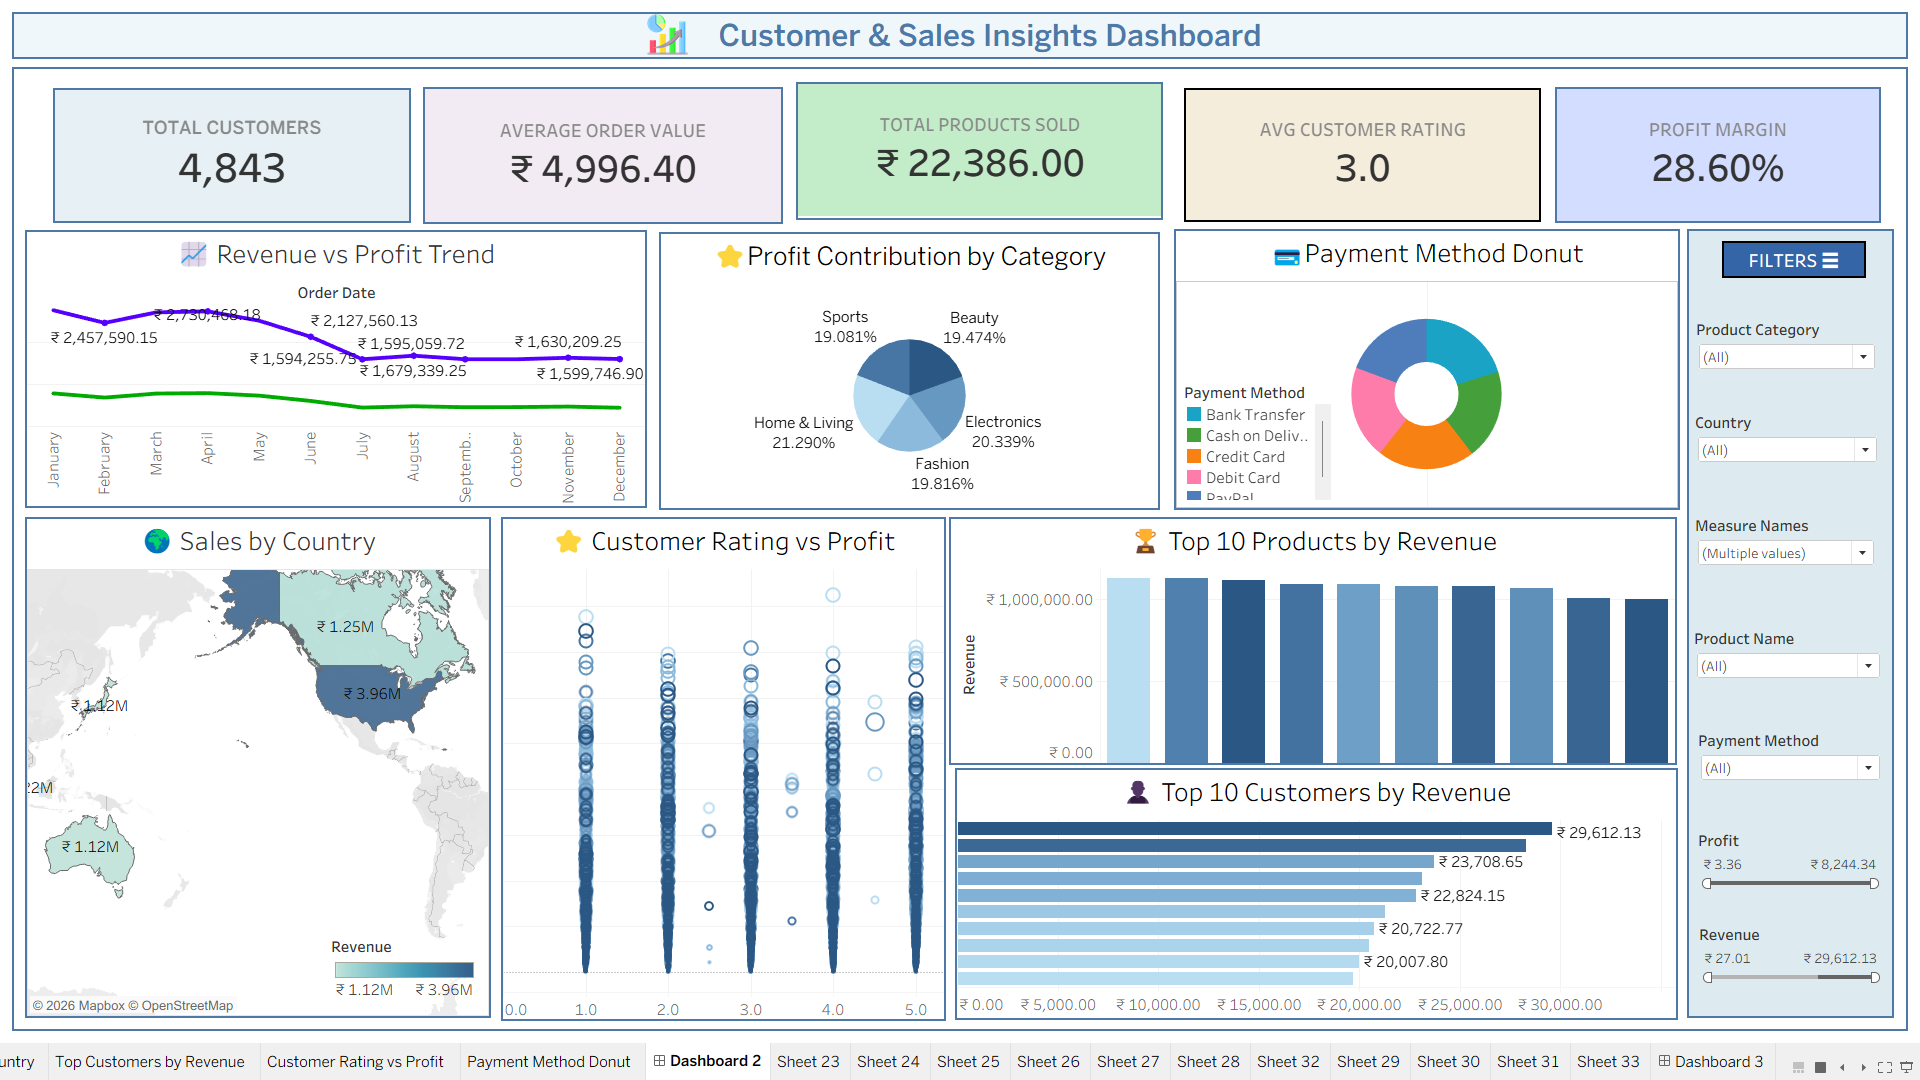

This screenshot's page, from the dashboard's own definition file:
{"tool":"tableau","page":{"name":"Dashboard 2","canvas":[1000,1000],"units":"permille","ordinal":1},"visuals":[{"type":"title","box":[4.8,9.4,990.3,64.6]},{"type":"image","param":"Image/sales-report.png","box":[324.7,14.1,30.8,41.1]},{"type":"blank","box":[4.8,74,990.3,916.6]},{"type":"worksheet","title":"KPI - Total Products Sold","mark":"Automatic","box":[414.6,78.7,191.3,132.8]},{"type":"worksheet","title":"KPI 5 -Average Order Value","mark":"Automatic","box":[220.3,83.4,187.7,131.6]},{"type":"worksheet","title":"KPI 6 -Profit Margin","mark":"Automatic","box":[809.9,83.4,169.6,130.4]},{"type":"worksheet","title":"KPI - Total Customers","mark":"Automatic","box":[27.8,84.6,186.5,129.3]},{"type":"worksheet","title":"KPI - Avg Rating","mark":"Automatic","box":[616.8,84.6,185.9,128.1]},{"type":"worksheet","title":"Payment Method Donut","mark":"Pie","cols":["Calculation_1093494572142600","Calculation_1093494572191754"],"box":[611.4,219.7,263.7,269.1]},{"type":"worksheet","title":"Revenue vs Profit Trend","mark":"Line","rows":["Revenue","Profit"],"cols":["Order_Date"],"box":[13.3,220.9,324.1,266.8]},{"type":"worksheet","title":"Profit by Category (Pie Chart)","mark":"Pie","box":[343.4,222.1,260.7,266.8]},{"type":"text","box":[896.8,231.5,74.8,35.2]},{"type":"filter","title":"Profit by Category (Pie Chart)","param":"[federated.0mwebx31yv44sr15h69f60pn67w9].[none:Product_Category:nk]","box":[883.5,305.5,94.8,69.3]},{"type":"legend","title":"Payment Method Donut","param":"[federated.0mwebx31yv44sr15h69f60pn67w9].[none:Payment_Method:nk]","box":[616.8,366.6,77.9,112.8]},{"type":"filter","title":"Sales by Country","param":"[federated.0mwebx31yv44sr15h69f60pn67w9].[none:Country:nk]","box":[882.9,394.8,96.6,82.3]},{"type":"filter","title":"Revenue vs Profit Trend","param":"[federated.0mwebx31yv44sr15h69f60pn67w9].[:Measure Names]","box":[882.9,493.5,94.8,70.5]},{"type":"worksheet","title":"Sales by Country","mark":"Multipolygon","box":[13.3,495.9,242.6,480.6]},{"type":"worksheet","title":"Customer Rating vs Profit","mark":"Automatic","rows":["Profit"],"cols":["Customer_Rating"],"box":[260.7,495.9,231.7,483]},{"type":"worksheet","title":"Top 10 Products by Revenue","mark":"Automatic","rows":["Revenue"],"cols":["Product_Name"],"box":[494.3,495.9,379,237.4]},{"type":"filter","title":"Top 10 Products by Revenue","param":"[federated.0mwebx31yv44sr15h69f60pn67w9].[none:Product_Name:nk]","box":[882.3,601.6,98.4,74]},{"type":"filter","title":"Payment Method Donut","param":"[federated.0mwebx31yv44sr15h69f60pn67w9].[none:Payment_Method:nk]","box":[884.1,700.4,96.6,71.7]},{"type":"worksheet","title":"Top Customers by Revenue","mark":"Automatic","rows":["Customer_Name"],"cols":["Revenue"],"box":[497.3,736.8,376.6,242.1]},{"type":"filter","title":"Customer Rating vs Profit","param":"[federated.0mwebx31yv44sr15h69f60pn67w9].[sum:Profit:qk]","box":[884.1,795.5,96.6,76.4]},{"type":"filter","title":"Top Customers by Revenue","param":"[federated.0mwebx31yv44sr15h69f60pn67w9].[sum:Revenue:qk]","box":[884.7,886,96.6,76.4]},{"type":"legend","title":"Sales by Country","param":"[federated.0mwebx31yv44sr15h69f60pn67w9].[sum:Revenue:qk]","box":[172.6,897.8,76.6,72.9]}]}

Visuals, with their boxes on the dashboard's canvas, which has no fixed pixel size, in thousandths of its width and height (x1, y1, x2, y2). These are canvas units, not pixel positions in the 1920x1080 screenshot, which may show the page scaled, cropped or inside an application window:
title: l=5, t=9, r=995, b=74
image: l=325, t=14, r=356, b=55
blank: l=5, t=74, r=995, b=991
"KPI - Total Products Sold" worksheet: l=415, t=79, r=606, b=212
"KPI 5 -Average Order Value" worksheet: l=220, t=83, r=408, b=215
"KPI 6 -Profit Margin" worksheet: l=810, t=83, r=980, b=214
"KPI - Total Customers" worksheet: l=28, t=85, r=214, b=214
"KPI - Avg Rating" worksheet: l=617, t=85, r=803, b=213
"Payment Method Donut" worksheet (Pie marks): l=611, t=220, r=875, b=489
"Revenue vs Profit Trend" worksheet (Line marks): l=13, t=221, r=337, b=488
"Profit by Category (Pie Chart)" worksheet (Pie marks): l=343, t=222, r=604, b=489
text: l=897, t=232, r=972, b=267
"Profit by Category (Pie Chart)" filter: l=884, t=306, r=978, b=375
"Payment Method Donut" legend: l=617, t=367, r=695, b=479
"Sales by Country" filter: l=883, t=395, r=980, b=477
"Revenue vs Profit Trend" filter: l=883, t=494, r=978, b=564
"Sales by Country" worksheet (Multipolygon marks): l=13, t=496, r=256, b=976
"Customer Rating vs Profit" worksheet: l=261, t=496, r=492, b=979
"Top 10 Products by Revenue" worksheet: l=494, t=496, r=873, b=733
"Top 10 Products by Revenue" filter: l=882, t=602, r=981, b=676
"Payment Method Donut" filter: l=884, t=700, r=981, b=772
"Top Customers by Revenue" worksheet: l=497, t=737, r=874, b=979
"Customer Rating vs Profit" filter: l=884, t=796, r=981, b=872
"Top Customers by Revenue" filter: l=885, t=886, r=981, b=962
"Sales by Country" legend: l=173, t=898, r=249, b=971
